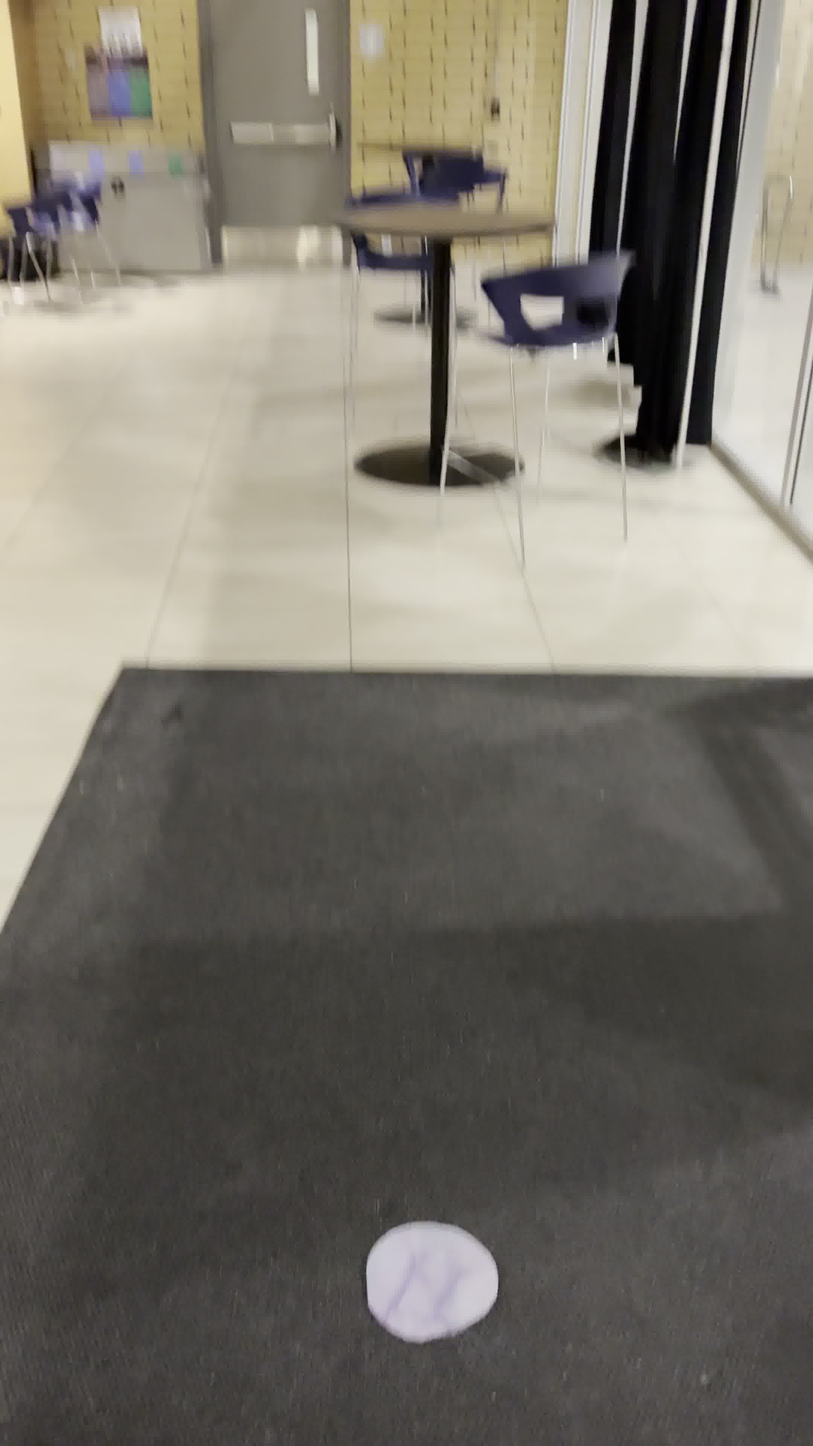Target: (361, 1215, 502, 1344)
